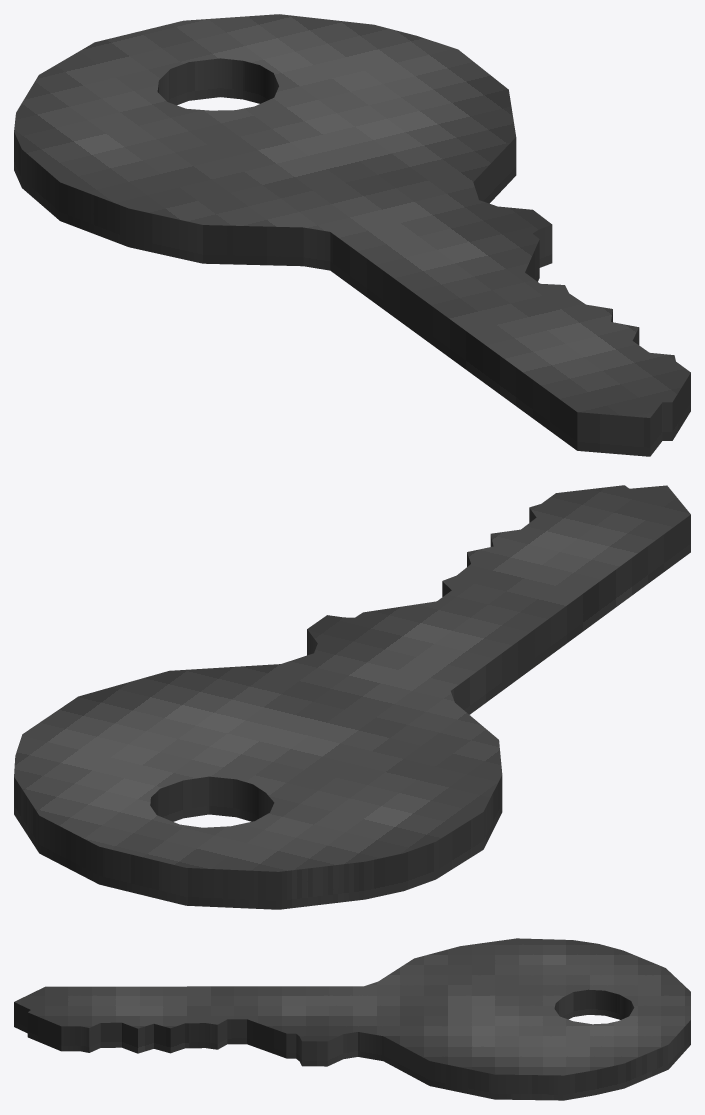
The model's file is key_mp_1_2.glb.
3 renders of one model, top to bottom at view 1: azimuth 30°, elevation 25°; view 2: azimuth 150°, elevation 25°; view 3: azimuth 270°, elevation 25°, orthographic. The views are drawn at different scales.
Visible parts, largest first — view 1: key_mp_1_2; view 2: key_mp_1_2; view 3: key_mp_1_2.
Part boxes in pixels (x1,y1,x2,y2): key_mp_1_2: (14, 14, 690, 456); key_mp_1_2: (14, 485, 690, 909); key_mp_1_2: (14, 938, 690, 1100).
Bounding box in the file's own units: 0.0352 × 0.00301 × 0.0735.
1 material, 1 textured.
